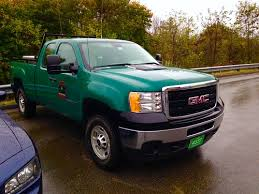Vehicle: (11, 34, 228, 165)
